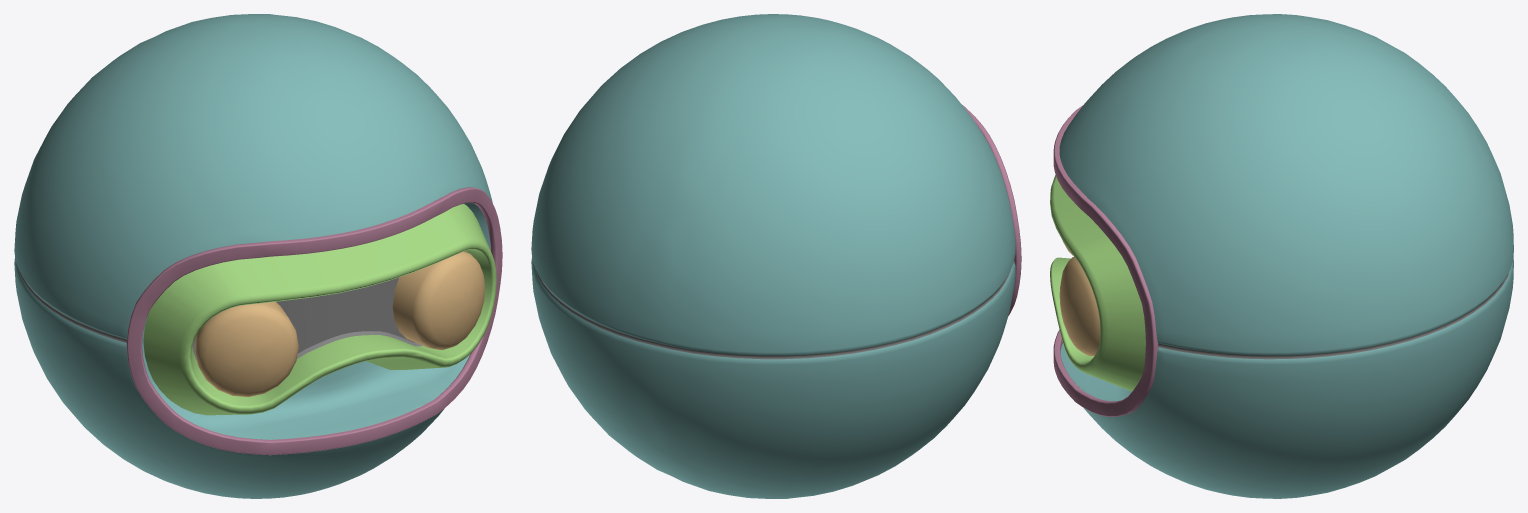
File: SM_Robo.fbx
The picture shows the model from 3 angles, left to right: view 1: azimuth 30°, elevation 25°; view 2: azimuth 150°, elevation 25°; view 3: azimuth 270°, elevation 25°; orthographic projection.
Parts seen in each view (by area): view 1: SM_Robo; view 2: SM_Robo; view 3: SM_Robo.
Boxes of the visible parts, <box> form: SM_Robo: <box>14,14,502,498</box>; SM_Robo: <box>531,14,1021,498</box>; SM_Robo: <box>1050,14,1513,498</box>.
Bounding box in the file's own units: 108 × 108 × 104.
